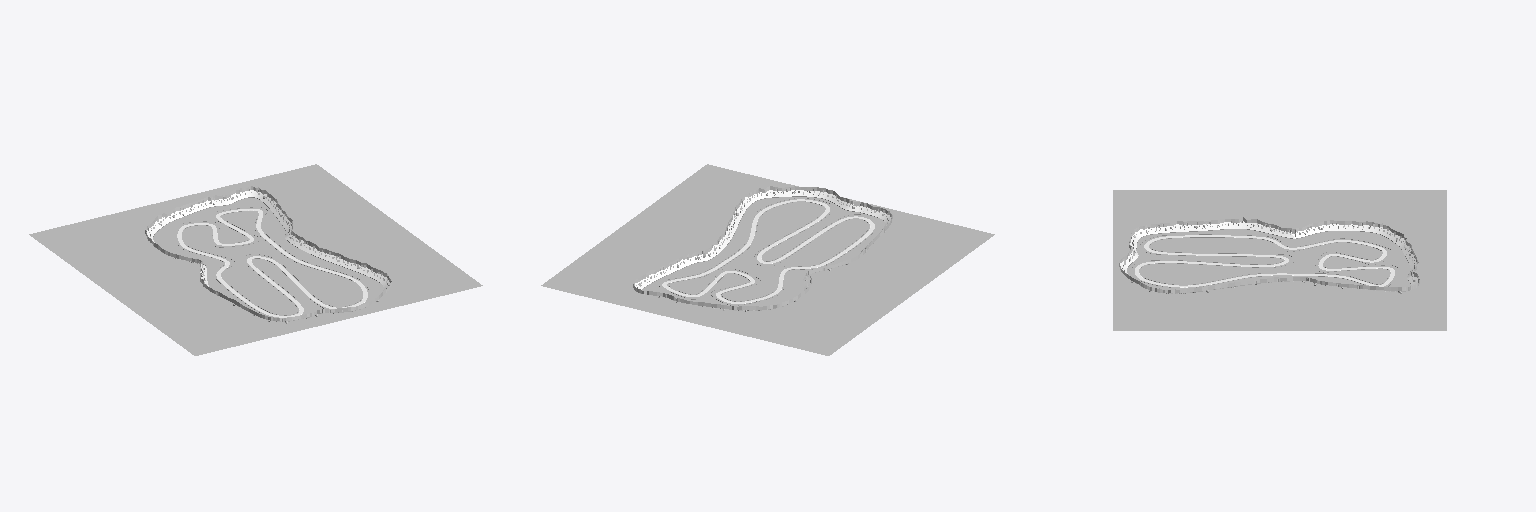
The picture shows the model from 3 angles: view 1: azimuth 30°, elevation 25°; view 2: azimuth 150°, elevation 25°; view 3: azimuth 270°, elevation 25°; orthographic projection.
Visible parts, largest first — view 1: Plane, RaceTrack_Wall_00, RaceTrack_Main_00; view 2: Plane, RaceTrack_Wall_00, RaceTrack_Main_00; view 3: Plane, RaceTrack_Wall_00, RaceTrack_Main_00.
Boxes of the visible parts, x1,y1,x2,y2 form: Plane: [29, 164, 482, 355]; RaceTrack_Wall_00: [145, 186, 391, 321]; RaceTrack_Main_00: [177, 209, 367, 317]; Plane: [541, 164, 994, 355]; RaceTrack_Wall_00: [633, 186, 892, 310]; RaceTrack_Main_00: [662, 199, 874, 303]; Plane: [1113, 190, 1446, 330]; RaceTrack_Wall_00: [1119, 217, 1419, 293]; RaceTrack_Main_00: [1134, 235, 1394, 287].
Size of the model in its own units: 1200 by 34.62 by 1200.